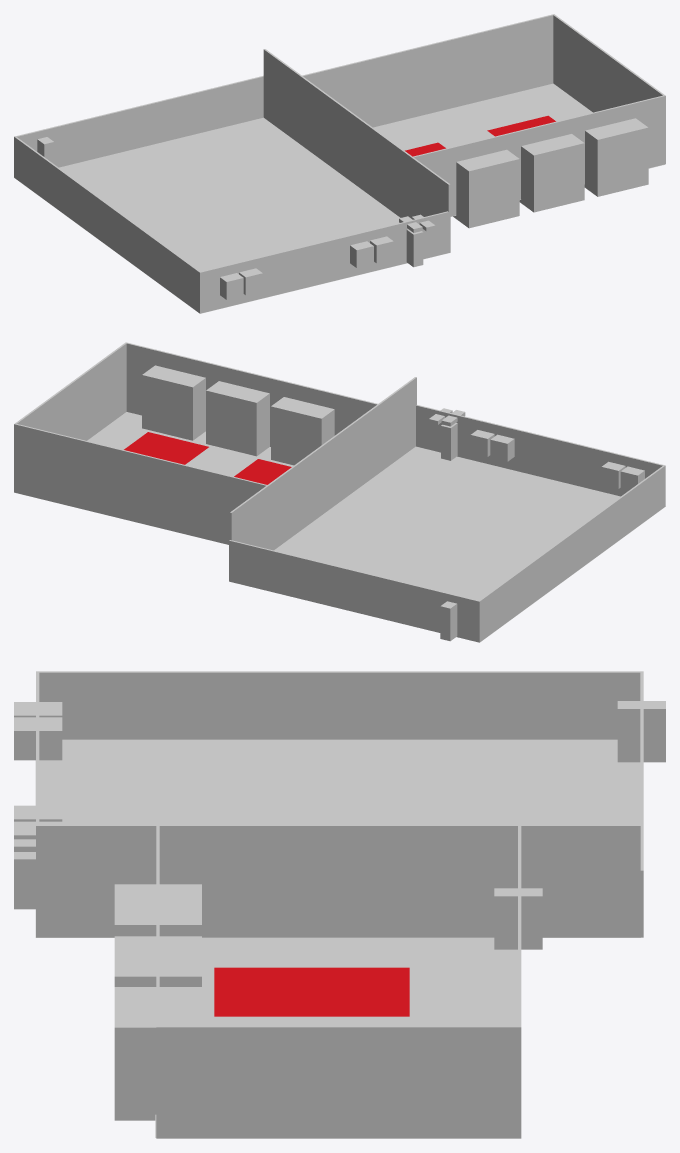
File: firestation.glb
3 views of the same model, one above another, from view 1: azimuth 30°, elevation 25°; view 2: azimuth 150°, elevation 25°; view 3: azimuth 270°, elevation 25° (orthographic). The views are drawn at different scales.
Parts seen in each view (by area): view 1: Plane.002, exterior wall.003, exterior wall.001, exterior wall.005, exterior wall, exterior wall.006, Plane.001, exterior wall.004, exterior wall.002, Cube, Cube.001, Cube.002 (+6 smaller); view 2: Plane.002, exterior wall.003, exterior wall.001, exterior wall.005, exterior wall, exterior wall.006, exterior wall.004, exterior wall.002, Cube.002, Cube.001, Cube, Plane.001 (+8 smaller); view 3: exterior wall.001, Plane.002, exterior wall.002, exterior wall, Plane.001, ft, Cube.002, Cube, Cube.001, Cube.005, Cube.003, Cube.008 (+6 smaller).
Part boxes in pixels (<box>): Plane.002: <box>15,117,450,313</box>; exterior wall.003: <box>302,14,553,127</box>; exterior wall.001: <box>263,49,450,252</box>; exterior wall.005: <box>14,75,263,177</box>; exterior wall: <box>15,137,200,312</box>; exterior wall.006: <box>199,211,448,313</box>; Plane.001: <box>373,83,664,216</box>; exterior wall.004: <box>413,95,664,216</box>; exterior wall.002: <box>553,14,665,164</box>; Cube: <box>453,149,519,228</box>; Cube.001: <box>519,134,584,212</box>; Cube.002: <box>584,118,648,196</box>; Plane.002: <box>274,446,665,641</box>; exterior wall.003: <box>15,424,266,544</box>; exterior wall.001: <box>230,377,416,550</box>; exterior wall.005: <box>229,540,480,642</box>; exterior wall: <box>479,466,664,641</box>; exterior wall.006: <box>416,405,665,506</box>; exterior wall.004: <box>126,342,377,446</box>; exterior wall.002: <box>14,342,126,492</box>; Cube.002: <box>142,365,205,440</box>; Cube.001: <box>206,381,269,456</box>; Cube: <box>271,397,334,465</box>; Plane.001: <box>16,412,293,543</box>; exterior wall.001: <box>36,824,640,937</box>; Plane.002: <box>35,739,640,937</box>; exterior wall.002: <box>156,1025,521,1138</box>; exterior wall: <box>38,671,640,739</box>; Plane.001: <box>155,938,517,1137</box>; ft: <box>214,967,409,1016</box>; Cube.002: <box>114,987,201,1120</box>; Cube: <box>114,884,201,936</box>; Cube.001: <box>114,936,201,986</box>; Cube.005: <box>617,701,665,762</box>; Cube.003: <box>494,888,542,949</box>; Cube.008: <box>14,717,62,760</box>.
Bounding box in the file's own units: 39.36 × 5.39 × 27.06.
